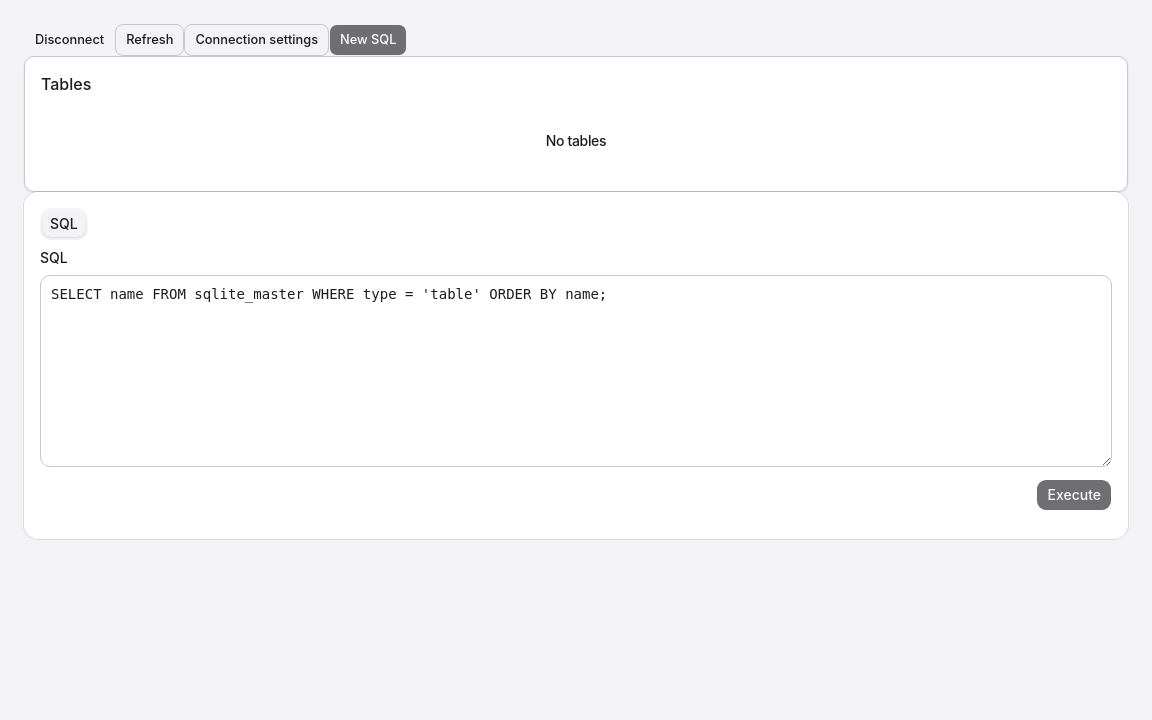
DatabasePage › executes the edited SQL and renders the returned rows
Replace the text in the text box labelled "SQL" with "SELECT 42 AS answer" at (576, 371), box 40,275 -> 1112,467
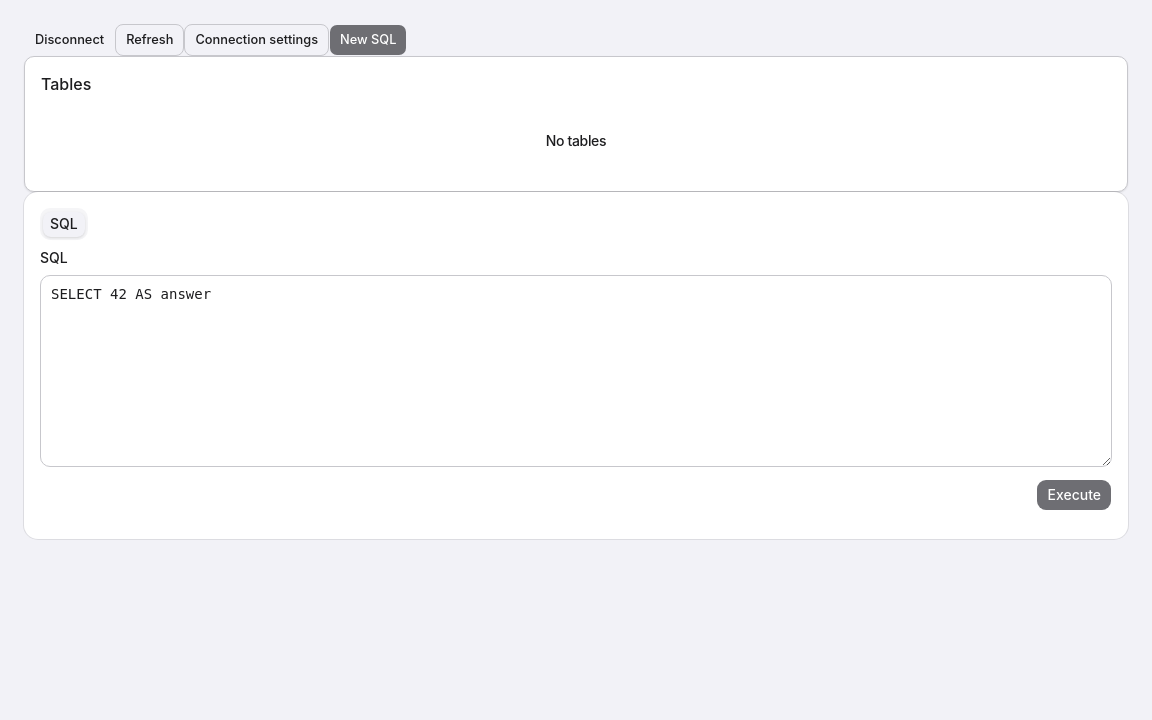
Click the button "Execute" at (1074, 495), box 1036,479 -> 1112,511
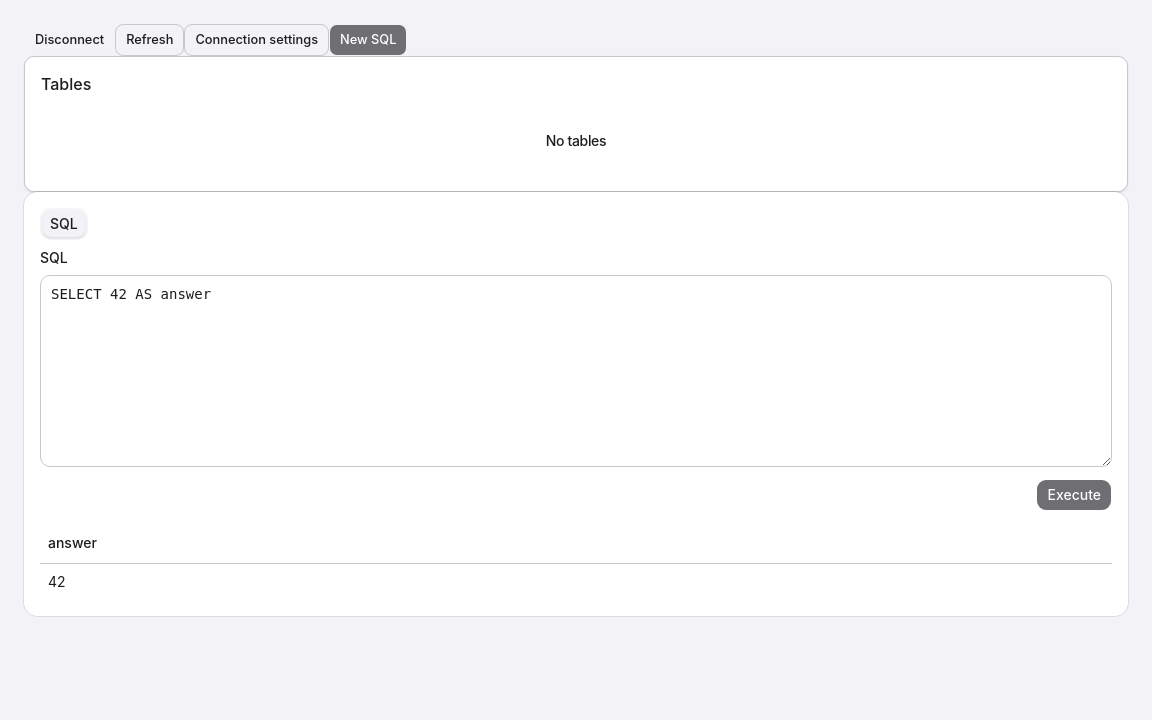
Result: the text "42" is shown at 40,564 -> 1112,600
